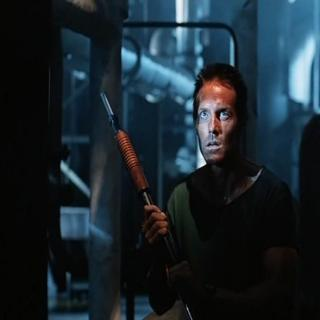gun: (89, 76, 198, 317)
